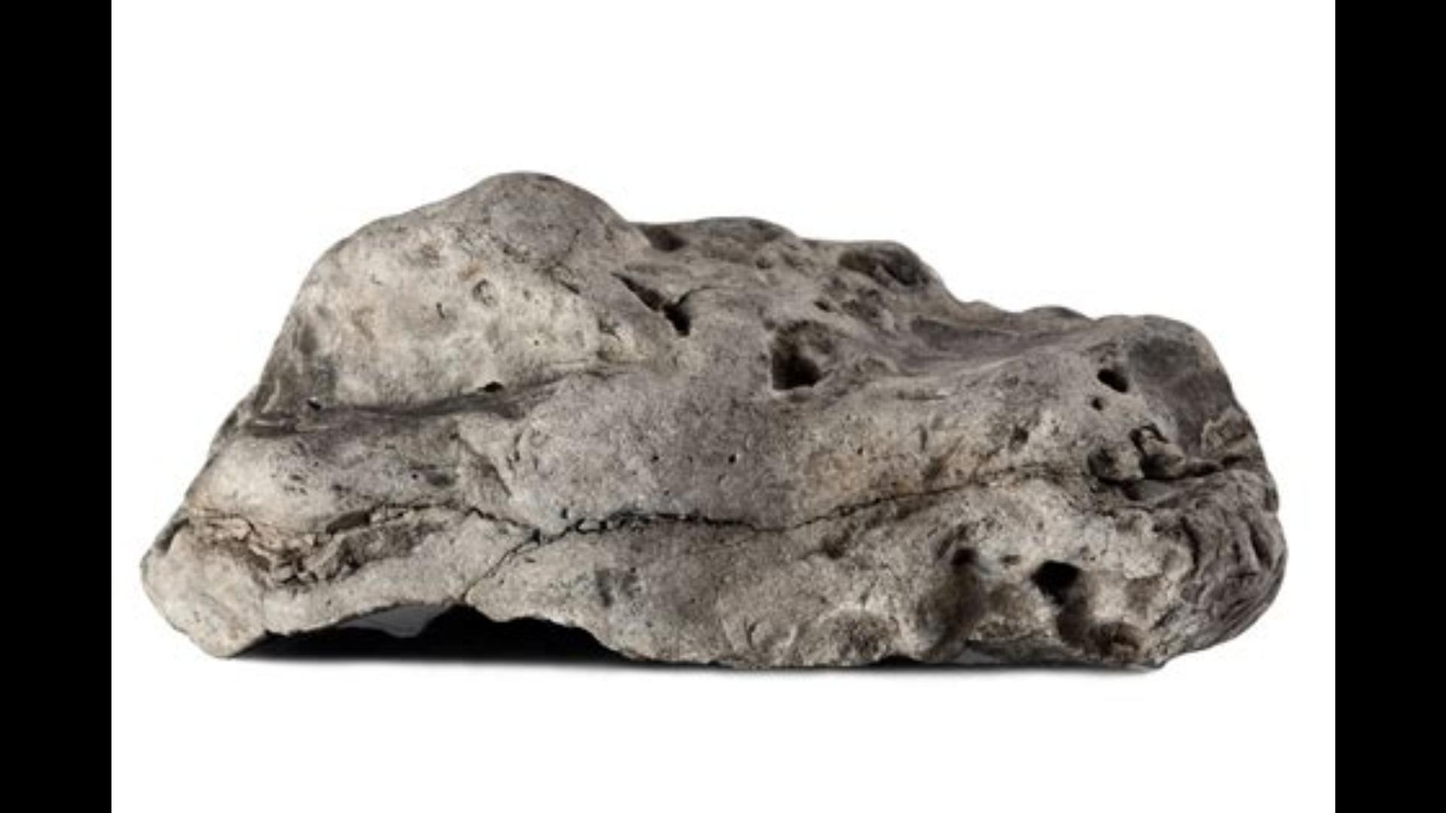rock: (142, 176, 1283, 666)
